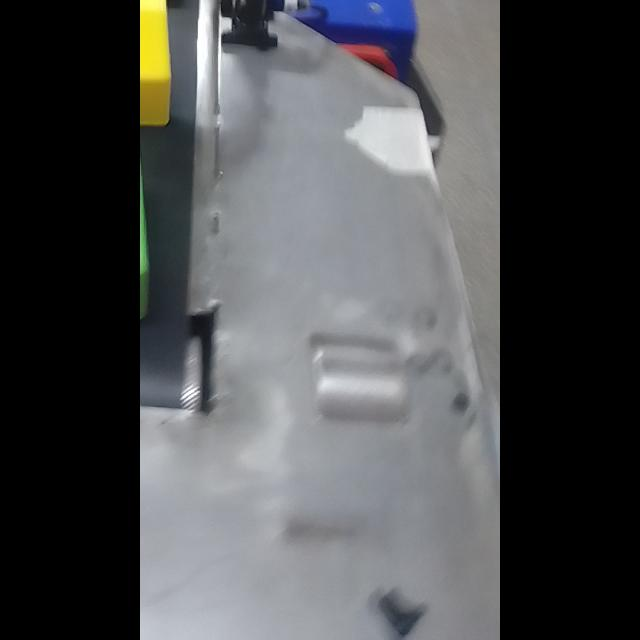greenBox: (140, 122, 173, 344)
yellowBox: (140, 0, 183, 142)
